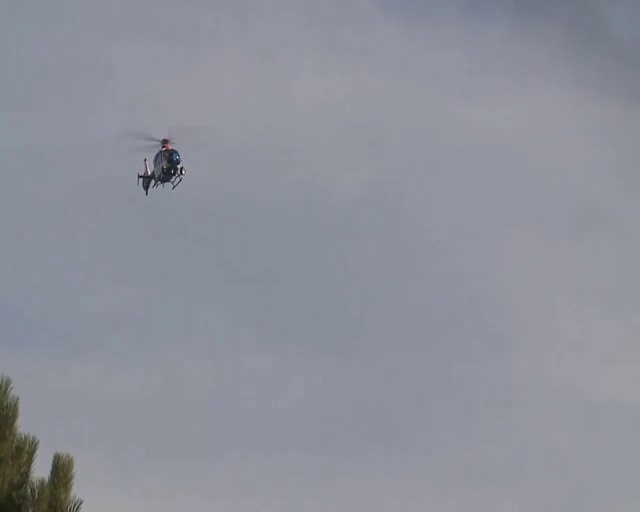HELICOPTER: (129, 132, 185, 196)
